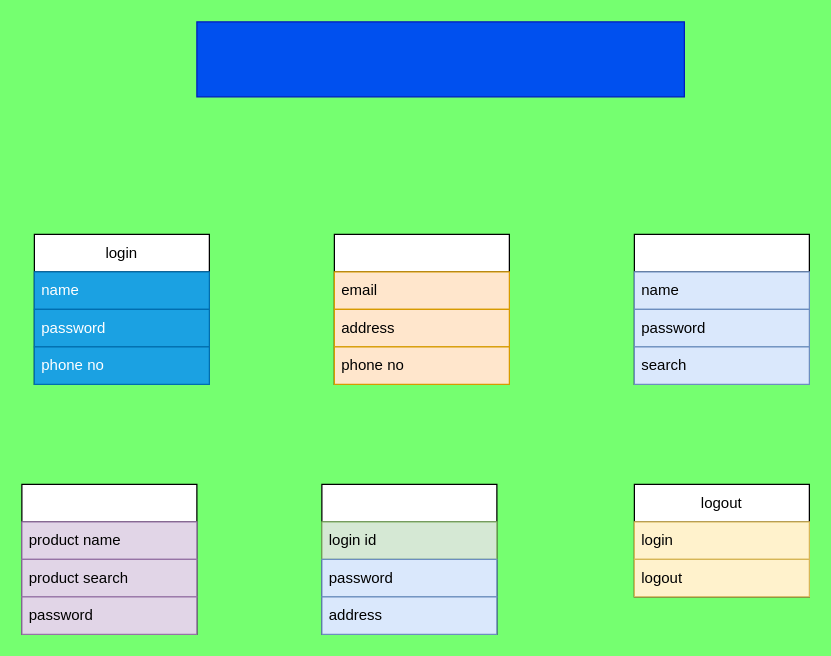
This 831x656 diagram has some shape labels left out. The box of each missing label's shape, as (x1, y1, x2, y2) in pixels:
admin: (333, 233, 509, 384)
class diagram: (196, 21, 684, 97)
edit product: (321, 483, 497, 634)
view all product: (21, 483, 197, 634)
view order: (633, 233, 809, 384)
